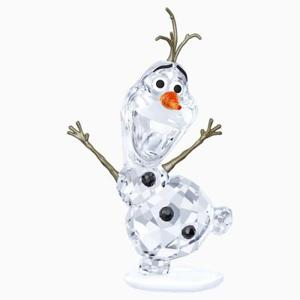olaf: (76, 5, 243, 278)
